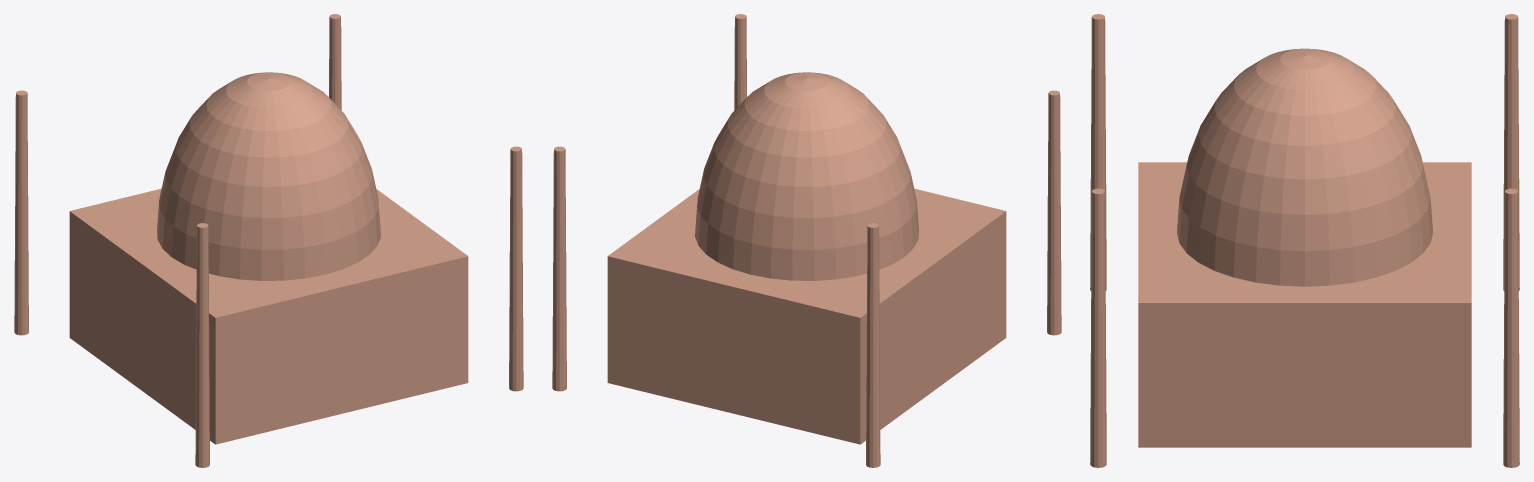
Rendered from place-selimiye-mosque-edirne.glb.
The picture shows the model from 3 angles, left to right: view 1: azimuth 30°, elevation 25°; view 2: azimuth 150°, elevation 25°; view 3: azimuth 270°, elevation 25°; orthographic projection. The views are drawn at different scales.
Visible parts, largest first — view 1: place-selimiye-mosque-edirne; view 2: place-selimiye-mosque-edirne; view 3: place-selimiye-mosque-edirne.
Part boxes in pixels (x1,y1,x2,y2): place-selimiye-mosque-edirne: (14,14,523,467); place-selimiye-mosque-edirne: (552,14,1061,467); place-selimiye-mosque-edirne: (1090,14,1519,467).
Size of the model in its own units: 52.46 by 43.28 by 52.46.
